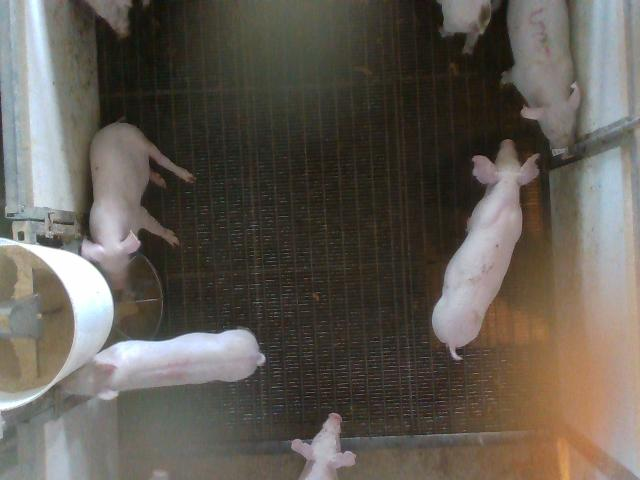pig-3: (504, 0, 580, 149)
pig-4: (60, 329, 265, 399)
